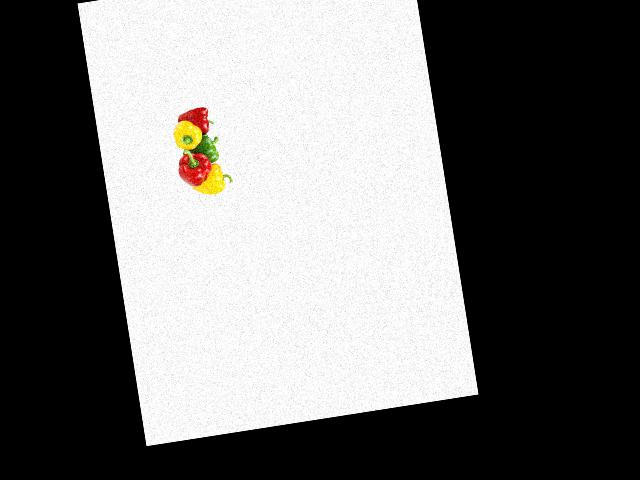bell_pepper: (180, 103, 216, 136)
